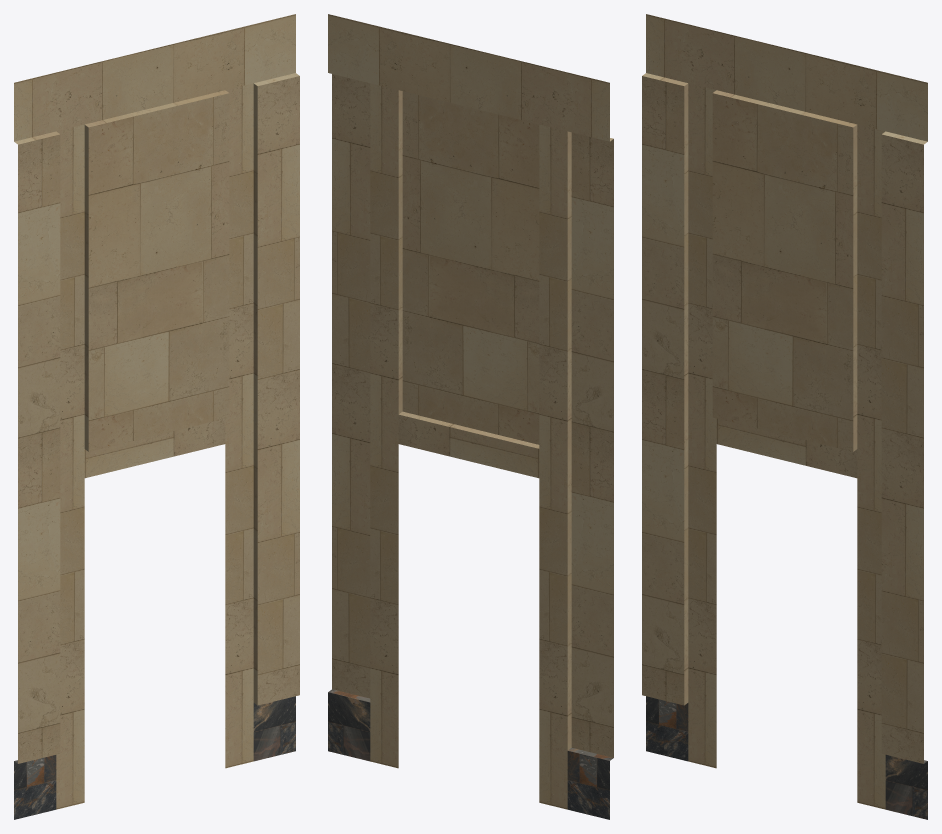
Rendered from SingleDoorFrame_01_5x2.fbx.
The picture shows the model from 3 angles, left to right: view 1: azimuth 30°, elevation 25°; view 2: azimuth 150°, elevation 25°; view 3: azimuth 330°, elevation 25°; orthographic projection.
Visible parts, largest first — view 1: Cube.364; view 2: Cube.364; view 3: Cube.364.
Part boxes in pixels (<box>): Cube.364: <box>14,14,299,819</box>; Cube.364: <box>328,14,613,819</box>; Cube.364: <box>642,14,927,819</box>.
Size of the model in its own units: 200 by 500 by 5.
